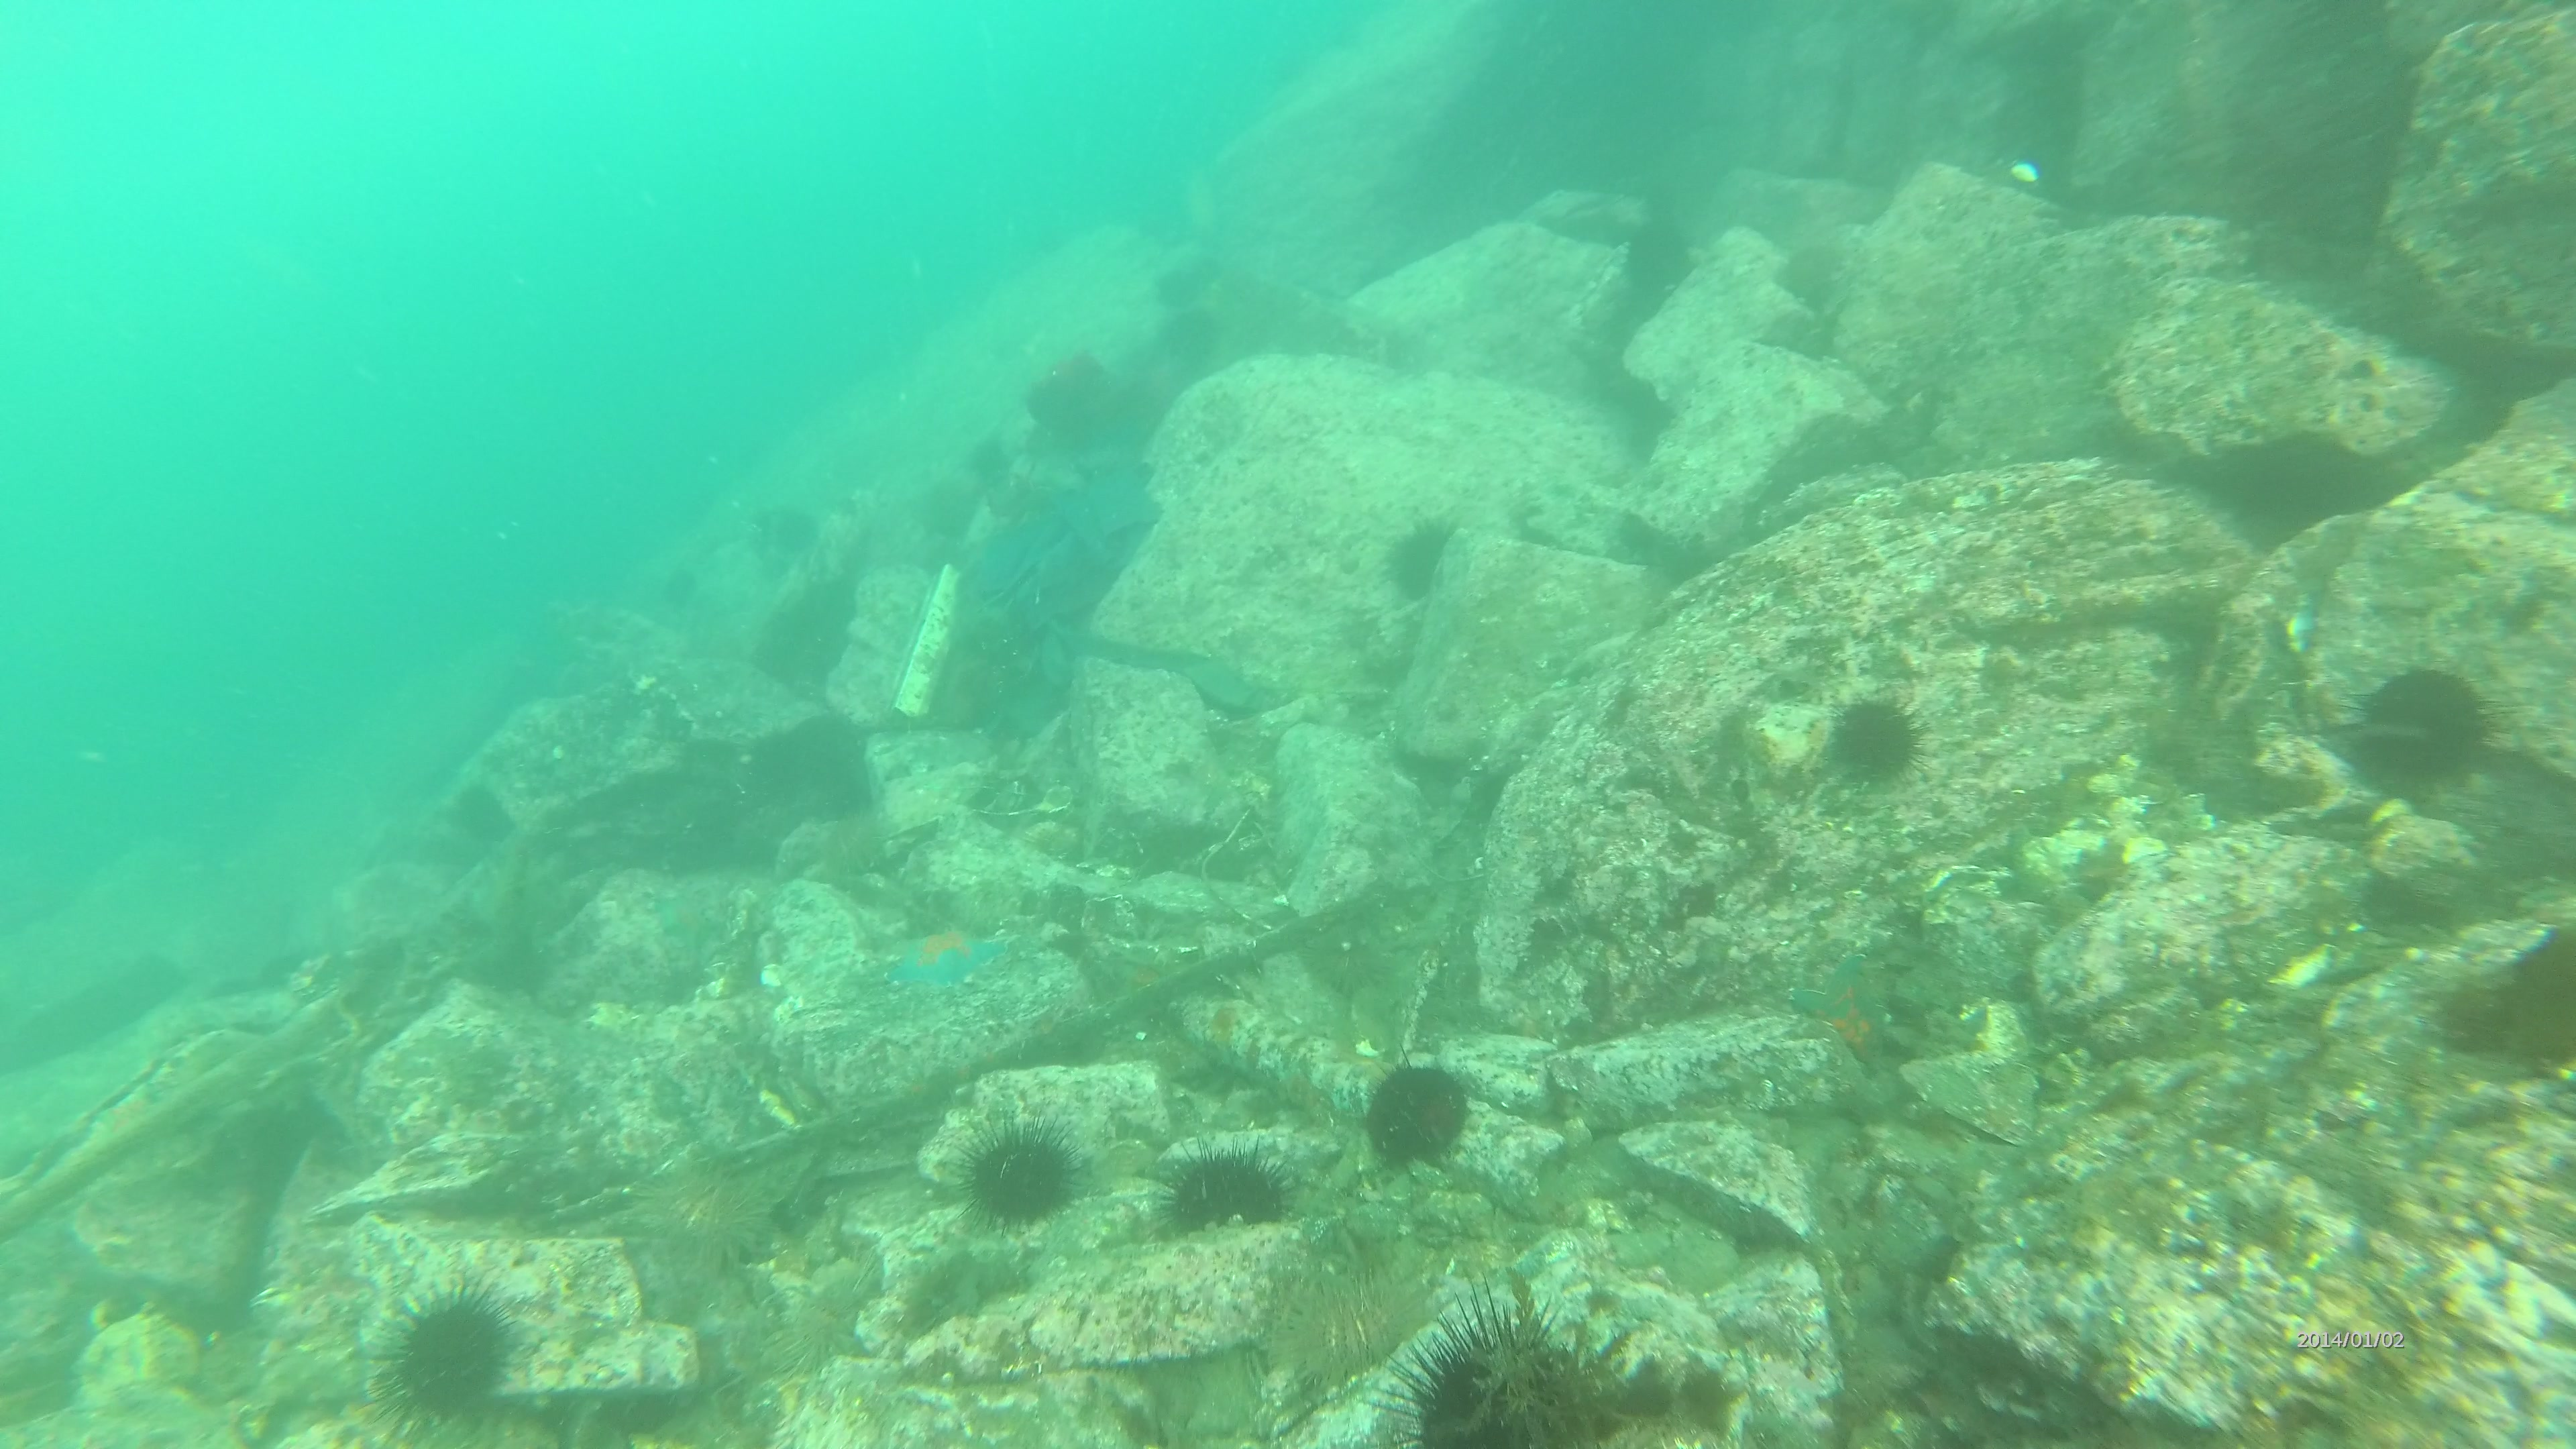echinus: (1385, 1297, 1599, 1447), (373, 1284, 527, 1421), (2365, 658, 2493, 768), (966, 1123, 1085, 1233), (1166, 1148, 1297, 1244), (1364, 1058, 1472, 1169), (1819, 697, 1927, 794), (1384, 518, 1461, 605), (1621, 225, 1695, 303)
starfish: (885, 918, 1019, 1007), (1790, 962, 1895, 1065)
